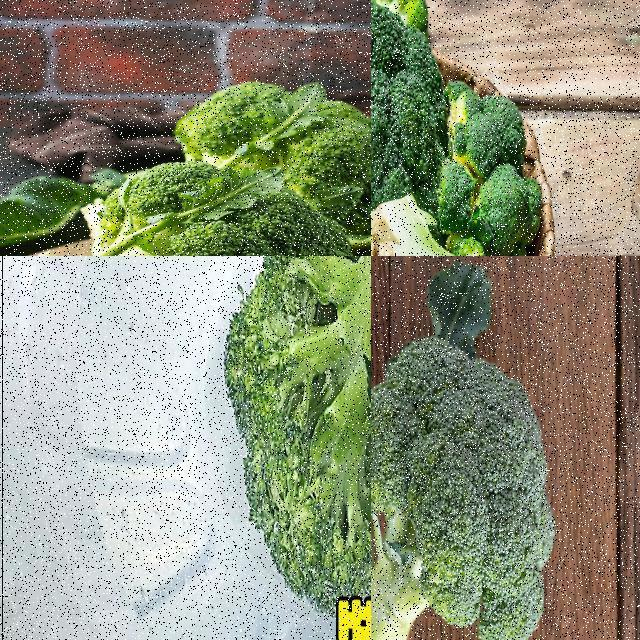broccoli: (371, 325, 570, 639), (221, 256, 370, 611), (0, 161, 366, 255), (171, 76, 370, 242), (434, 85, 546, 255), (371, 0, 436, 255)
